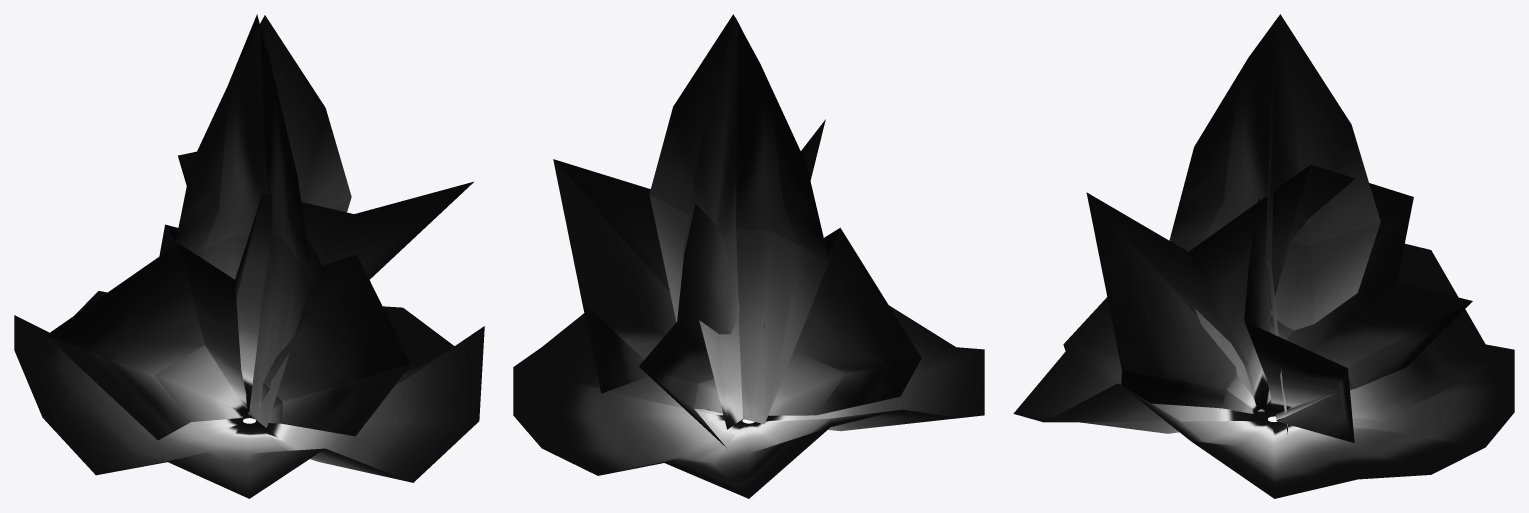
The model's file is qiangkou_01_001.FBX.
3 renders of one model, left to right at view 1: azimuth 30°, elevation 25°; view 2: azimuth 150°, elevation 25°; view 3: azimuth 270°, elevation 25°, orthographic. The views are drawn at different scales.
Visible parts, largest first — view 1: Cylinder002; view 2: Cylinder002; view 3: Cylinder002.
Boxes of the visible parts, box(x1,y1,x2,y2) form: Cylinder002: box(14, 14, 484, 498); Cylinder002: box(513, 14, 984, 498); Cylinder002: box(1013, 14, 1514, 498).
Bounding box in the file's own units: 9.48 × 8.88 × 9.67.
